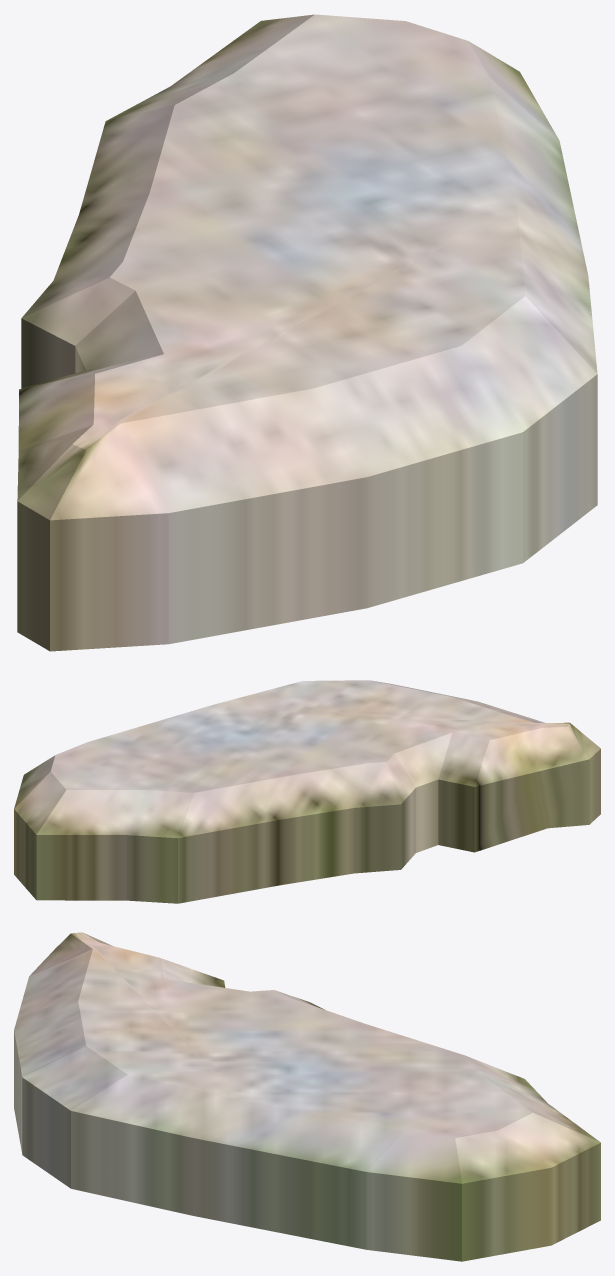
File: stone.23.fbx
3 renders of one model, top to bottom at view 1: azimuth 30°, elevation 25°; view 2: azimuth 150°, elevation 25°; view 3: azimuth 270°, elevation 25°, orthographic. The views are drawn at different scales.
Parts seen in each view (by area): view 1: stone.23; view 2: stone.23; view 3: stone.23.
Part boxes in pixels (x1,y1,x2,y2): stone.23: [17, 14, 597, 651]; stone.23: [14, 680, 600, 903]; stone.23: [14, 932, 600, 1261].
Bounding box in the file's own units: 46.23 × 9.74 × 48.43.
1 material, 1 textured.
